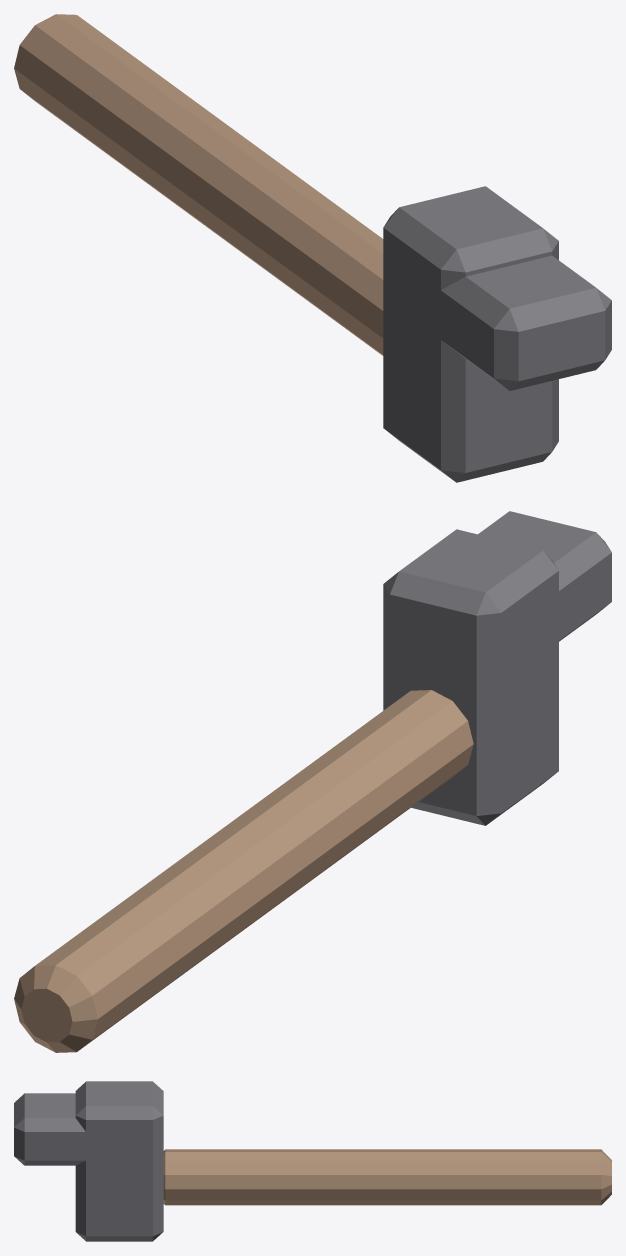
The model's file is SM_Hammer.fbx.
3 views of the same model, one above another, from view 1: azimuth 30°, elevation 25°; view 2: azimuth 150°, elevation 25°; view 3: azimuth 270°, elevation 25° (orthographic). The views are drawn at different scales.
Parts seen in each view (by area): view 1: Hammer; view 2: Hammer; view 3: Hammer.
Part boxes in pixels (x1,y1,x2,y2): Hammer: (14,14,611,482); Hammer: (14,511,611,1052); Hammer: (14,1081,611,1241).
Bounding box in the file's own units: 4.5 × 8.5 × 34.
